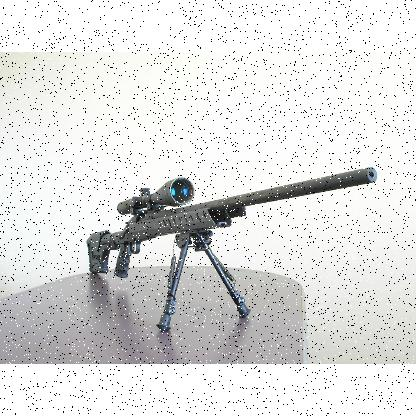gun: (86, 167, 376, 331)
